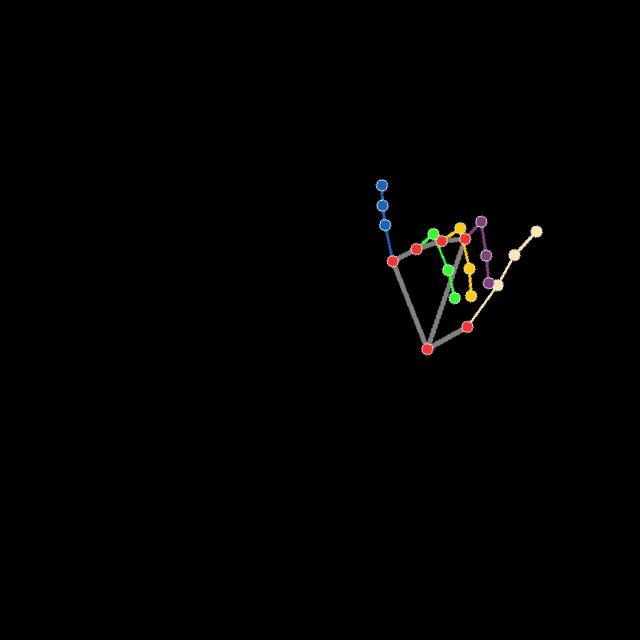skr: (373, 175, 547, 356)
